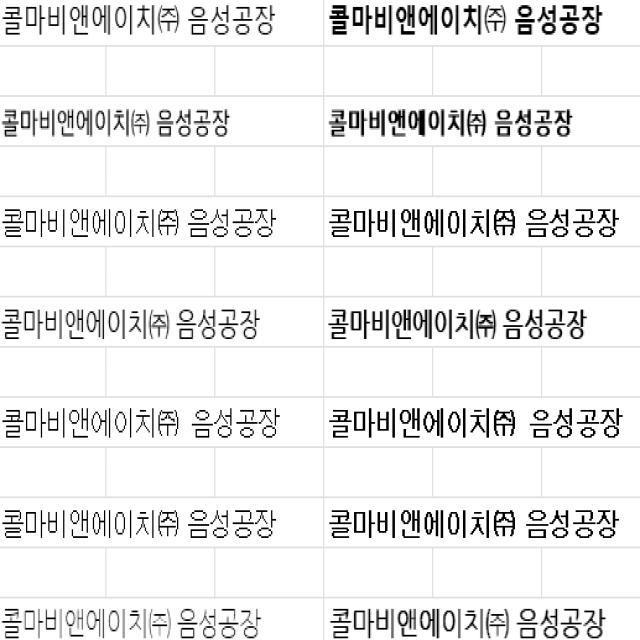bold: (329, 200, 622, 243), (327, 401, 624, 442), (328, 502, 620, 542), (325, 301, 589, 345), (326, 0, 608, 40), (328, 601, 608, 640), (326, 101, 577, 144)
normal: (0, 191, 279, 247), (0, 0, 281, 43), (0, 501, 278, 544), (1, 402, 284, 444), (0, 300, 266, 344), (0, 599, 264, 640), (2, 98, 232, 145)
